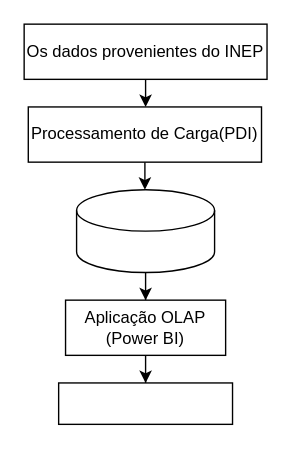
The diagram is 291 pixels wide and 449 high, and some of its shapes have lost their labels. Each missing label, with the centre of its shape:
"Relatórios e consultas" goes at point 145,403.
"SGBD" goes at point 145,230.
